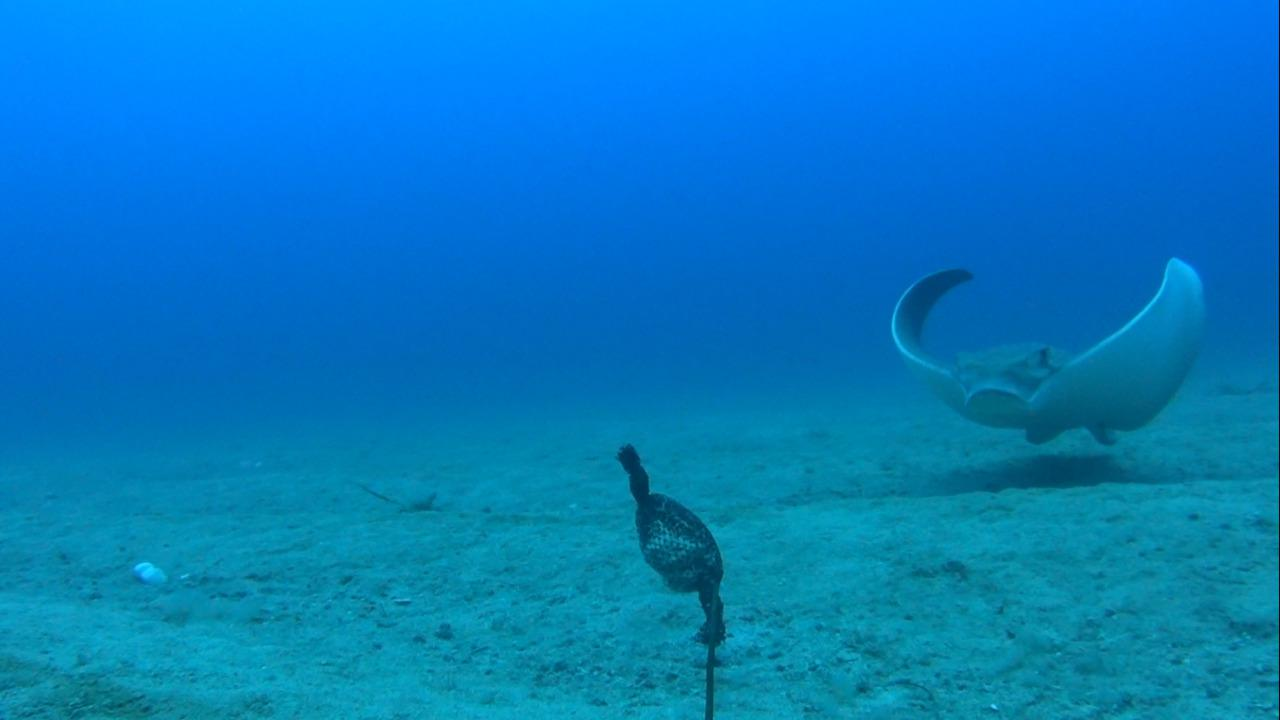myliobatis: (881, 248, 1218, 453)
